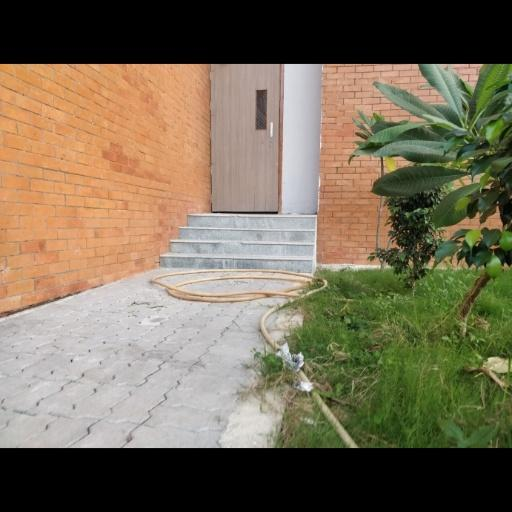stairs: (160, 214, 315, 272)
